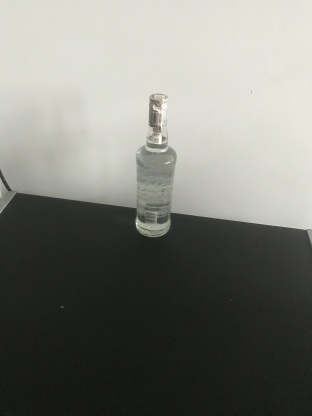nakretka: (147, 91, 169, 127)
